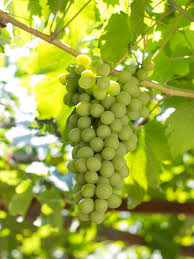grapes: (57, 53, 148, 234)
